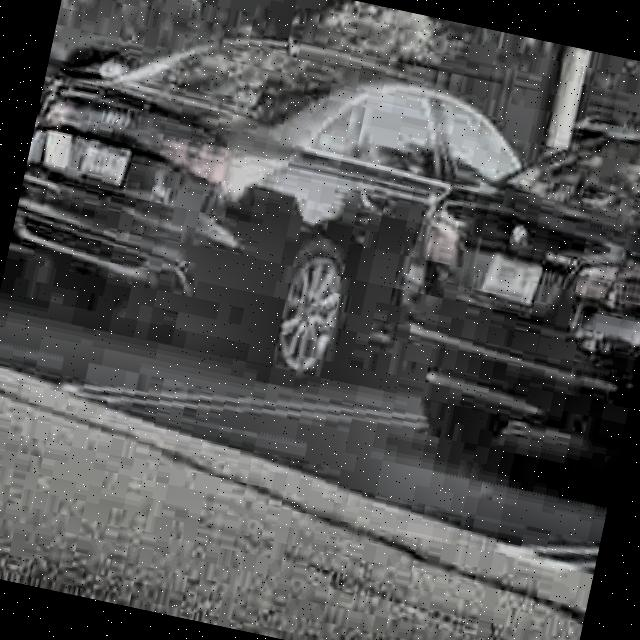license_plate: (474, 246, 546, 312), (71, 134, 130, 192)
